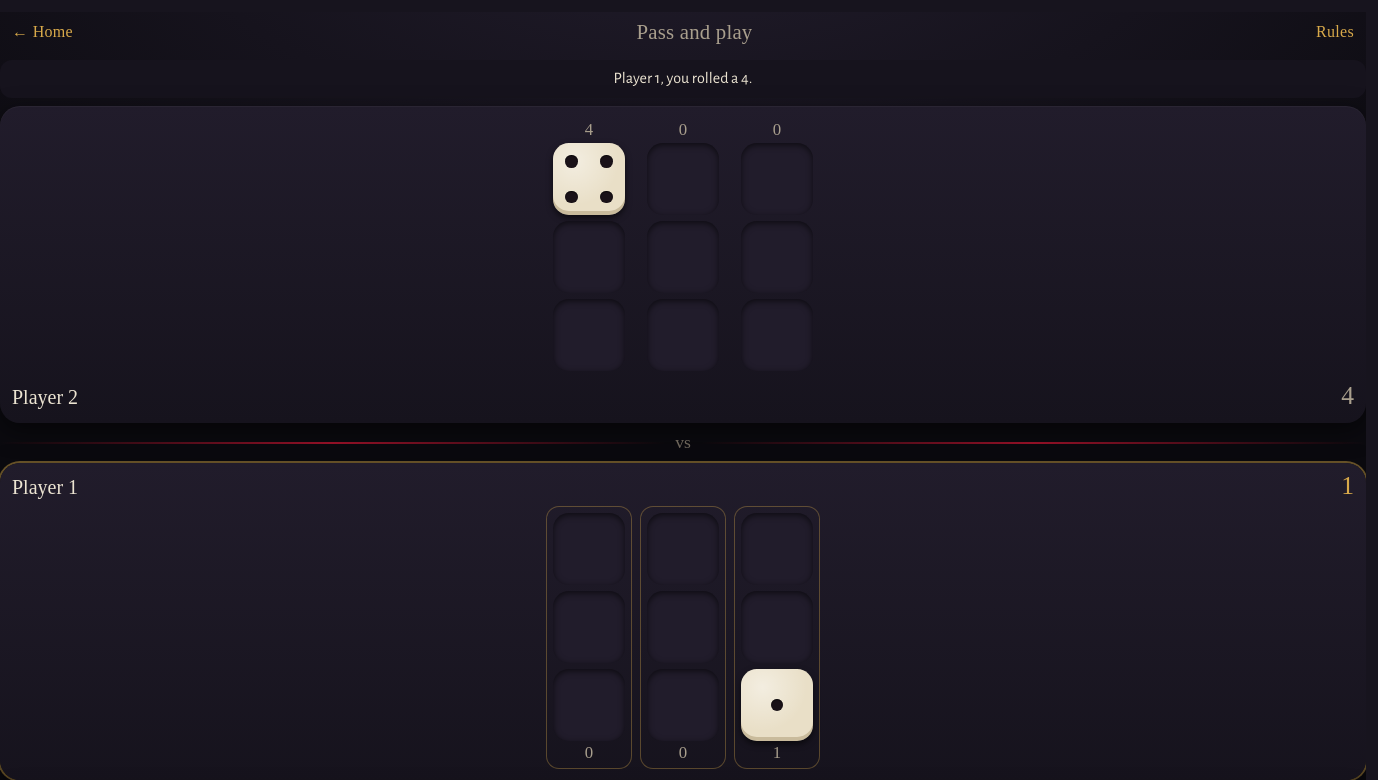
LocalGameScreen › runs pass and play with attacks described
Check: the message reads "Player 1, you rolled a 4.", box [614,70,752,86]
Click the 1st button "0" at (589, 637), box [547,507,631,768]
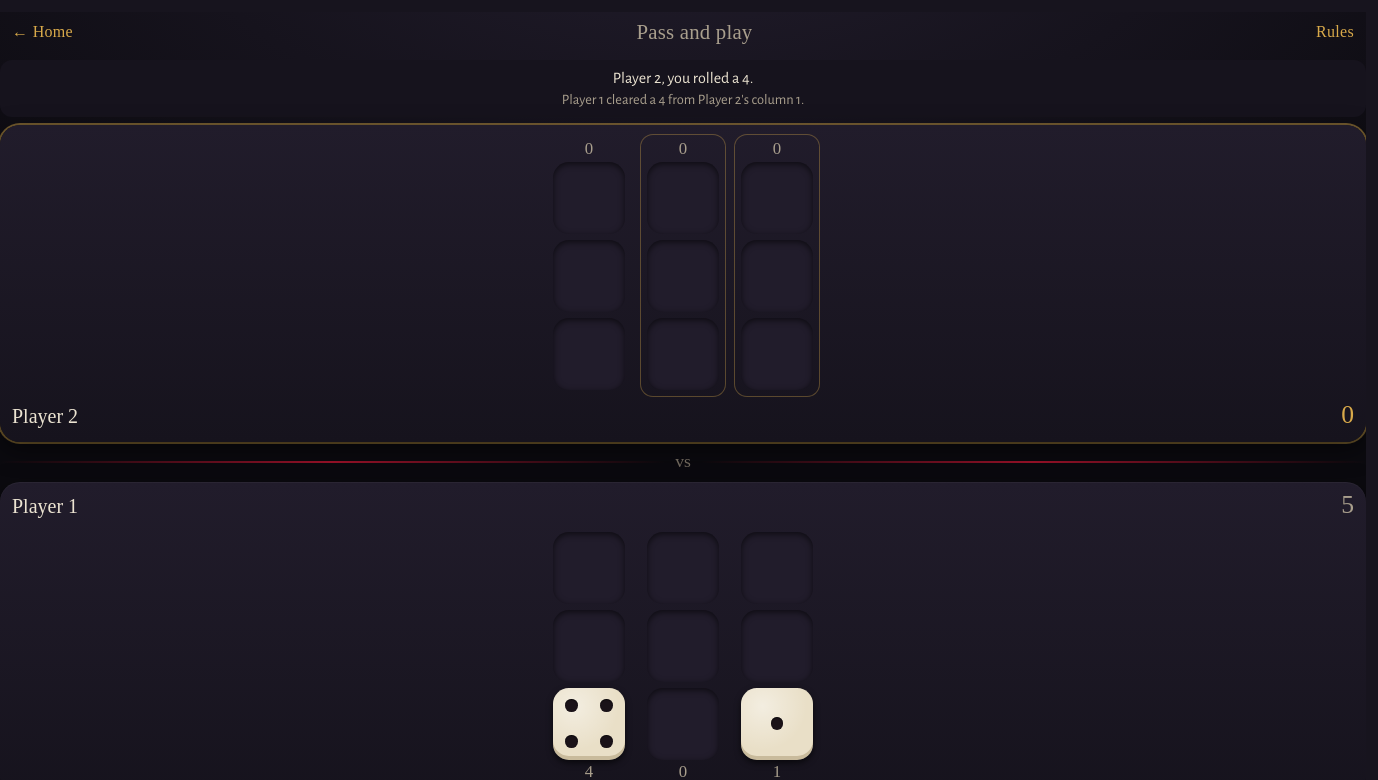
Check: the message shows "Player 2, you rolled a 4.", box [613,70,753,86]
Check: the message shows "Player 1 cleared a 4 from Player 2's column 1.", box [562,92,804,107]
Check: the text with test id "score-Player 1" reads "5", box [1341,490,1354,519]
